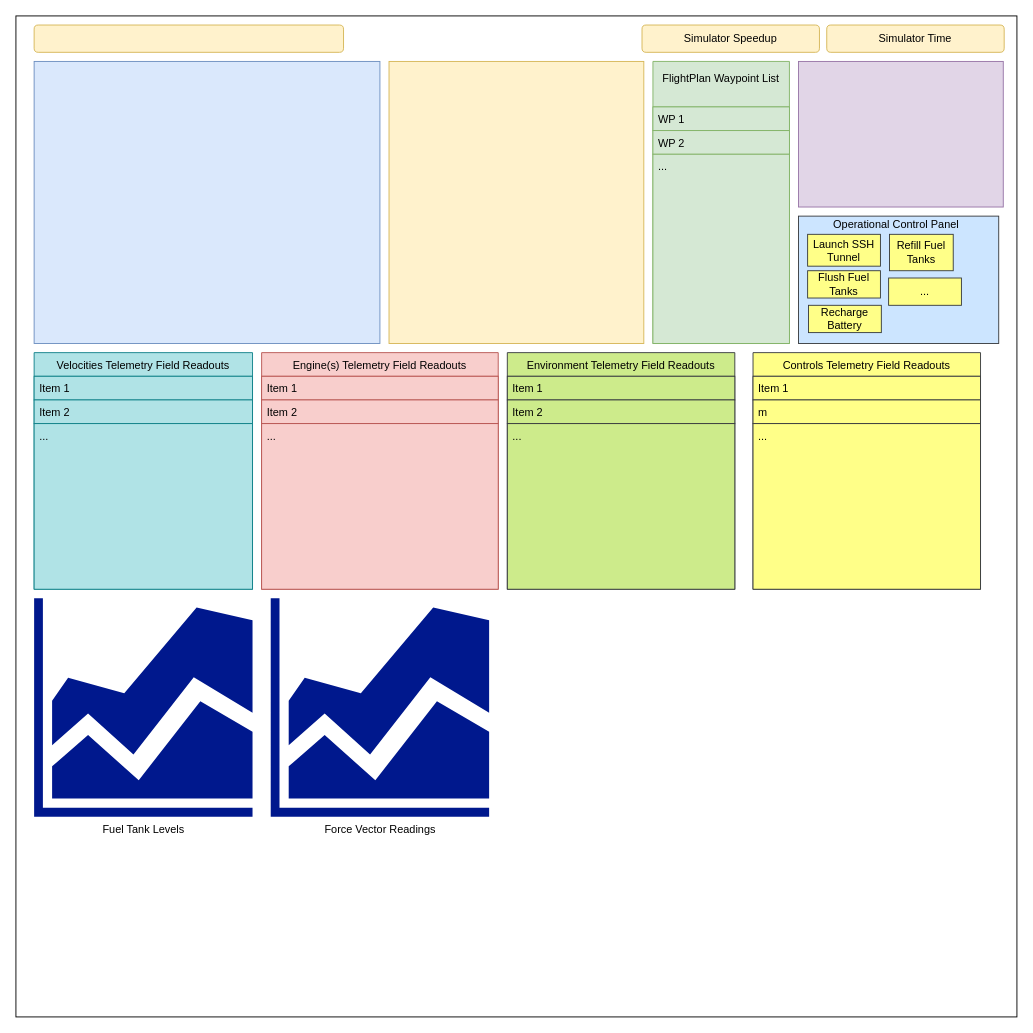
This 1033x1033 diagram has some shape labels left out. Each missing label, with the centre of its shape:
Camera Feed WebFrame: point (206, 202)
Flight Plan Control Panel: point (900, 134)
MapView Google/OSM Maps Flight Path View Network availability overlay: point (516, 202)
TWX Edge Sim - C172P Alpha - Flight: point (188, 38)
